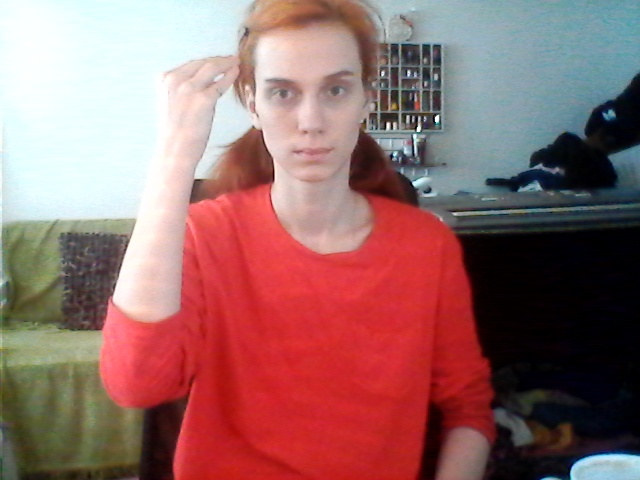domov: (129, 49, 288, 191)
